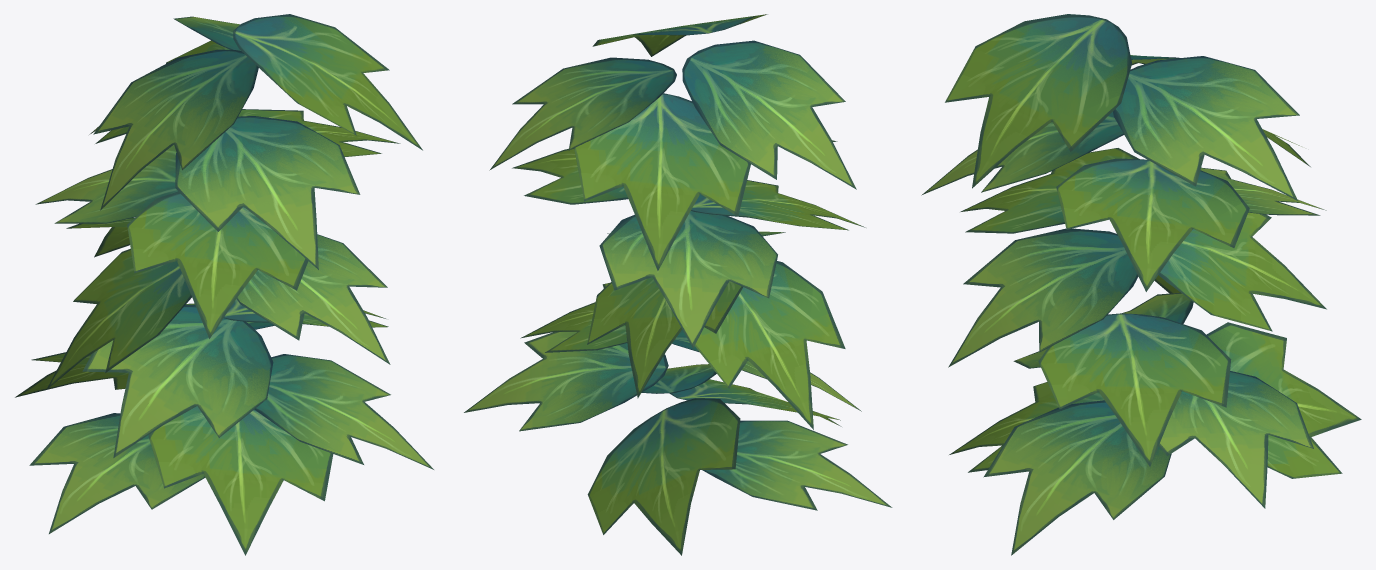
Rendered from mesh_lierre.fbx.
3 views of the same model, side by side, from view 1: azimuth 30°, elevation 25°; view 2: azimuth 150°, elevation 25°; view 3: azimuth 270°, elevation 25° (orthographic). The views are drawn at different scales.
Parts seen in each view (by area): view 1: lierre; view 2: lierre; view 3: lierre.
Part boxes in pixels (<box>): lierre: <box>15,14,433,555</box>; lierre: <box>464,14,892,555</box>; lierre: <box>921,14,1361,555</box>.
Size of the model in its own units: 0.2712 by 0.313 by 0.2663.
